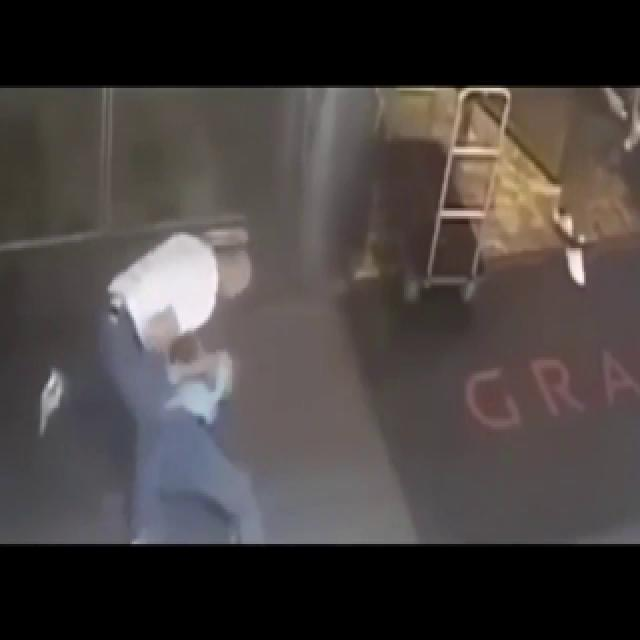arrest: (58, 185, 305, 568)
